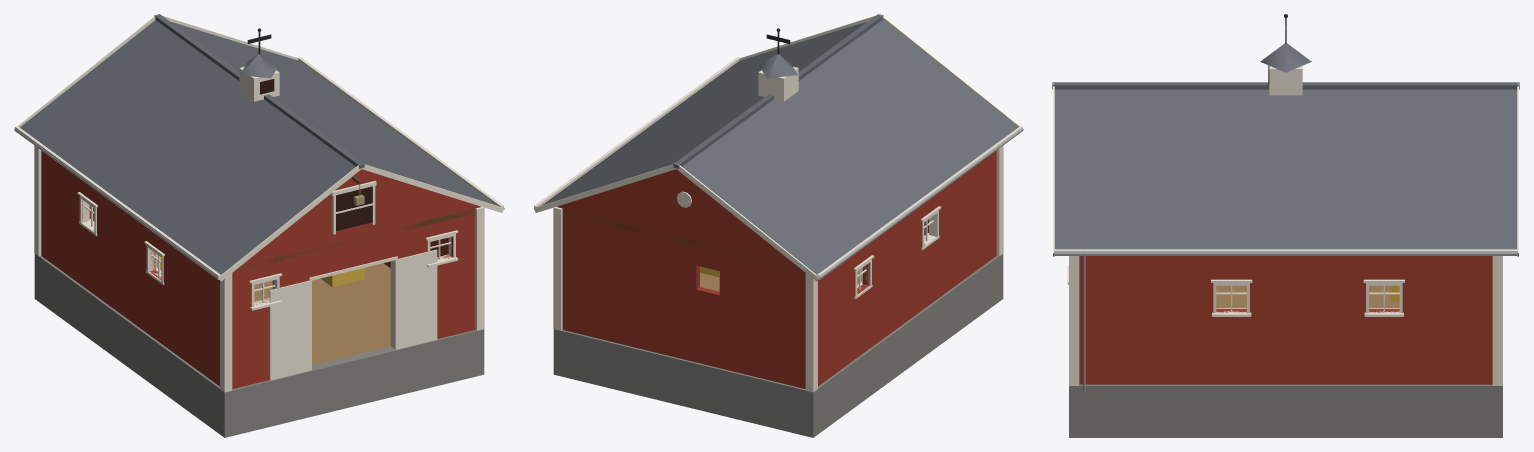
Rendered from Barn.glb.
The picture shows the model from 3 angles, left to right: view 1: azimuth 30°, elevation 25°; view 2: azimuth 150°, elevation 25°; view 3: azimuth 270°, elevation 25°; orthographic projection. The views are drawn at different scales.
Visible parts, largest first — view 1: Barn; view 2: Barn; view 3: Barn.
Part boxes in pixels (x1,y1,x2,y2): Barn: (14, 14, 504, 437); Barn: (534, 14, 1023, 437); Barn: (1052, 14, 1519, 437).
Bounding box in the file's own units: 12.38 × 12.7 × 15.3.
